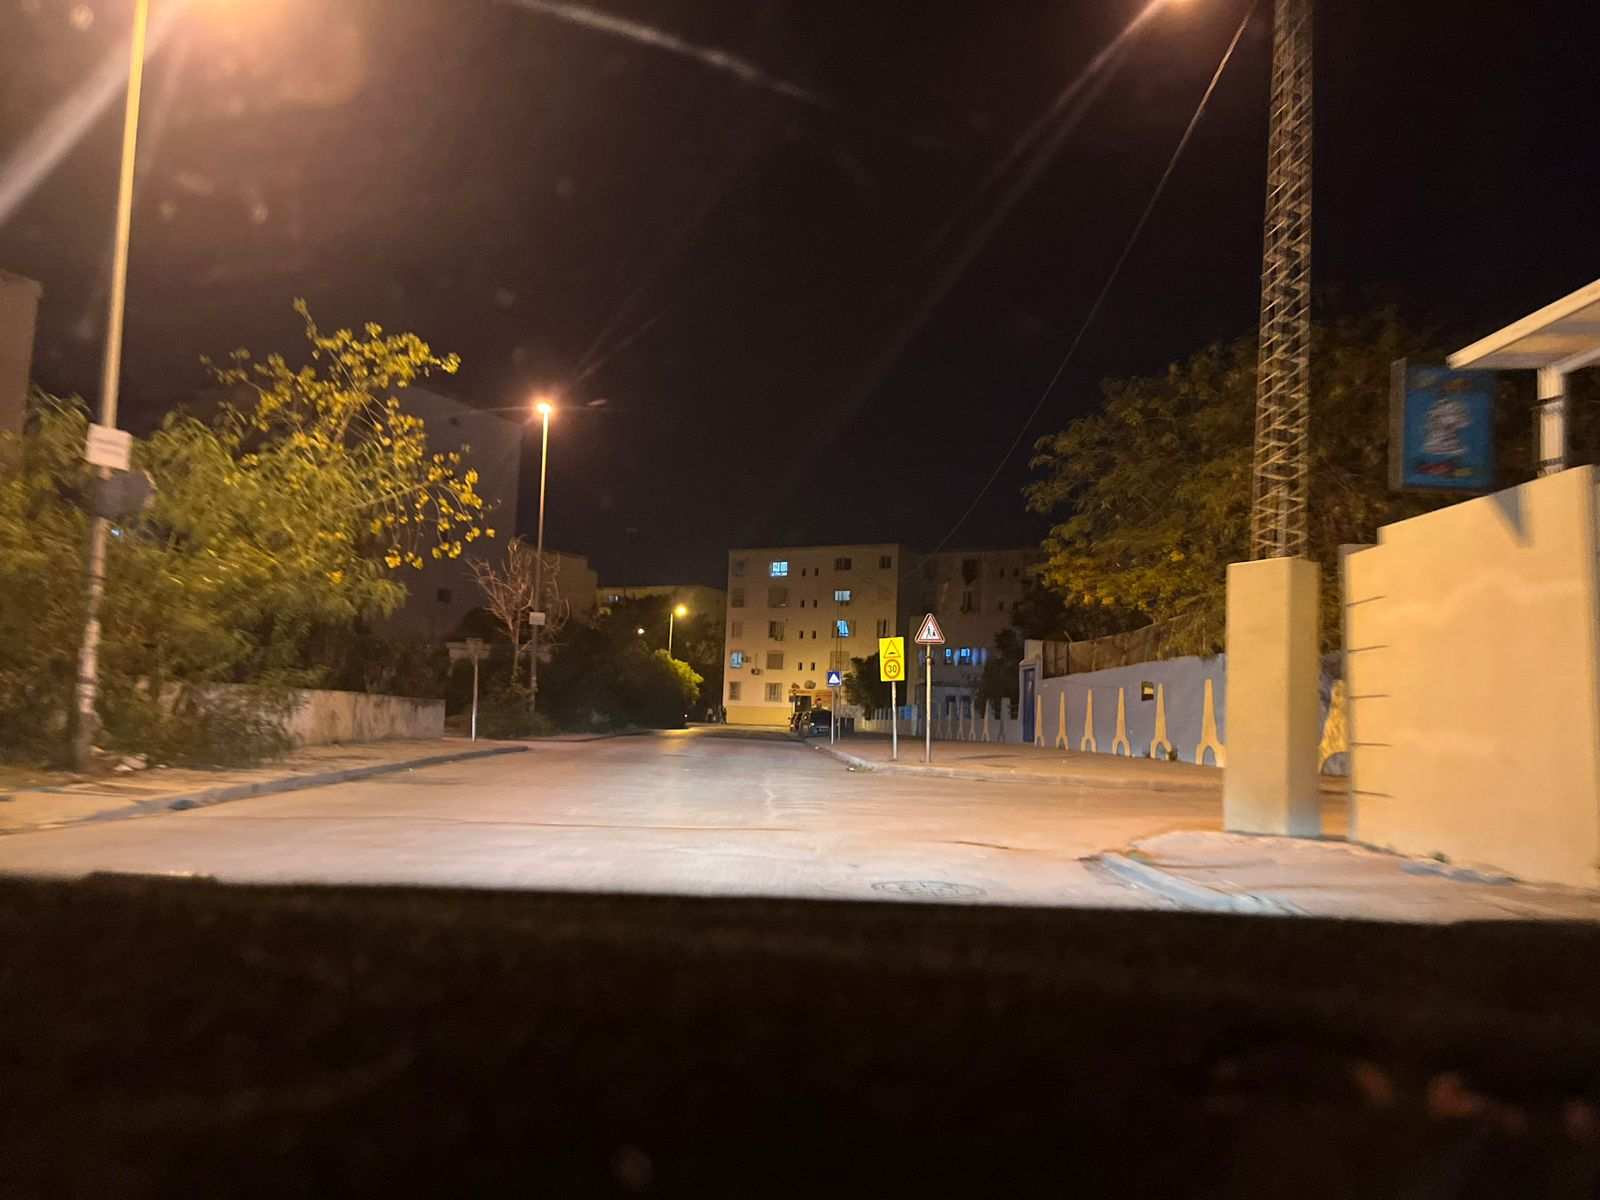SpeedLimit30: (878, 637, 905, 682)
